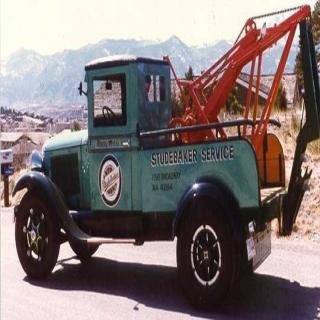Towing_truck: (11, 4, 318, 308)
